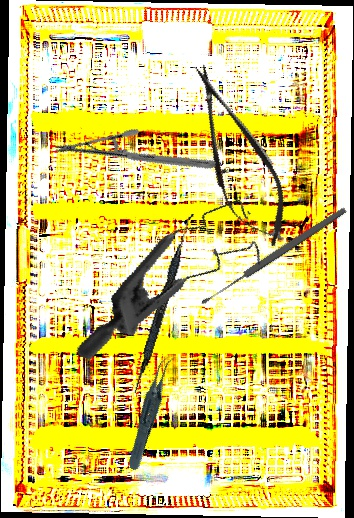Micro Scissor: (170, 53, 304, 258)
Needle Holder: (53, 91, 218, 222)
Spatula Surgical: (131, 211, 195, 396)
Speculum: (74, 165, 279, 404)
Surgical Spoon: (198, 204, 349, 308)
Tissue Forceps: (106, 352, 198, 472)
